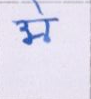o_matra: (39, 7, 53, 43)
